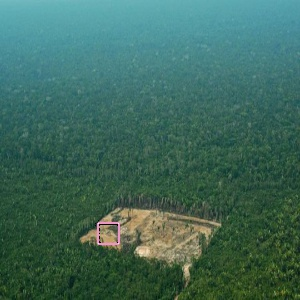square: (96, 221, 121, 246)
